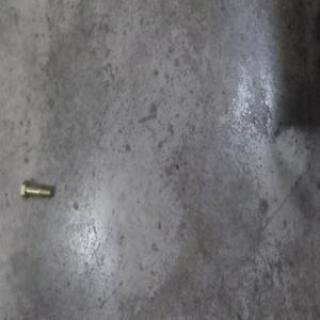Bolttrack_idkeyframe: (20, 186, 52, 210)
